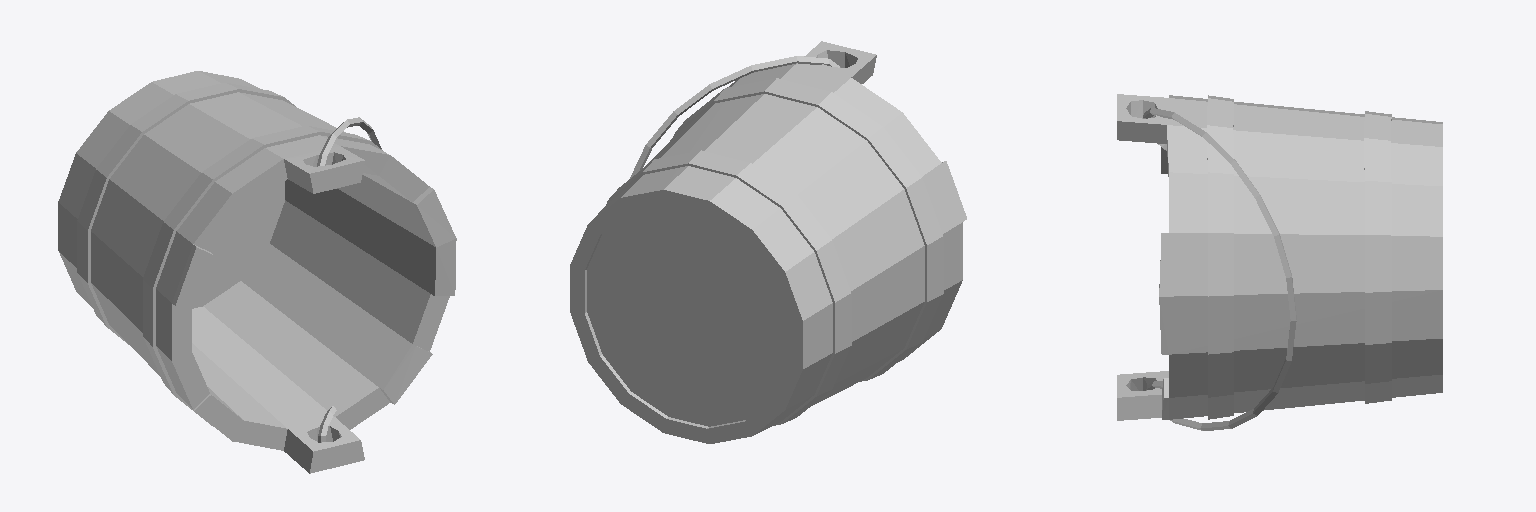
Rendered from bucket.obj.
3 renders of one model, left to right at view 1: azimuth 30°, elevation 25°; view 2: azimuth 150°, elevation 25°; view 3: azimuth 270°, elevation 25°, orthographic.
Visible parts, largest first — view 1: Circle; view 2: Circle; view 3: Circle.
Boxes of the visible parts, box(x1,y1,x2,y2) form: Circle: box(58, 71, 456, 473); Circle: box(570, 41, 966, 443); Circle: box(1117, 94, 1442, 430).
Bounding box in the file's own units: 0.3545 × 0.3761 × 0.3566.